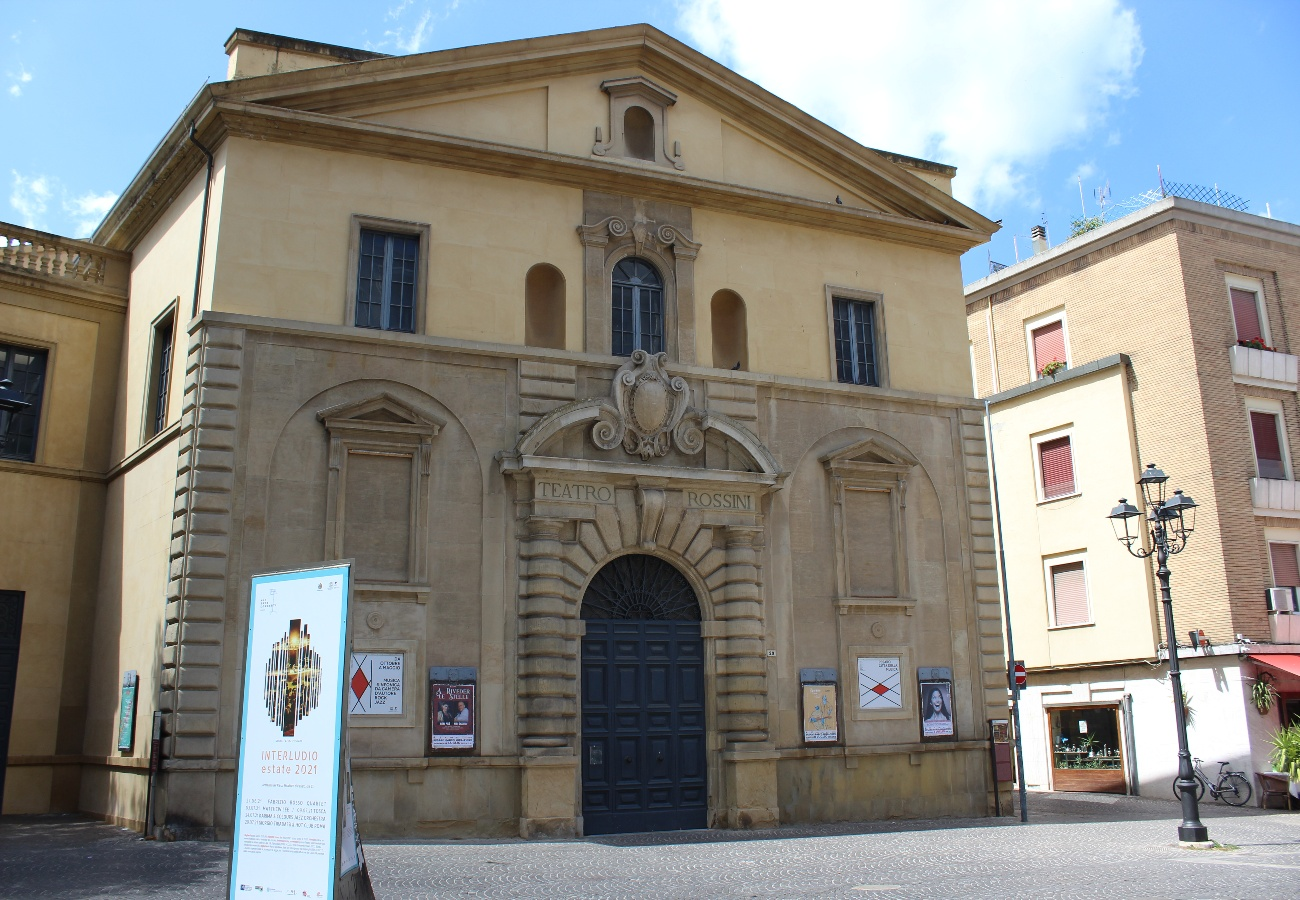Teatro Rossini: (150, 20, 1024, 841)
